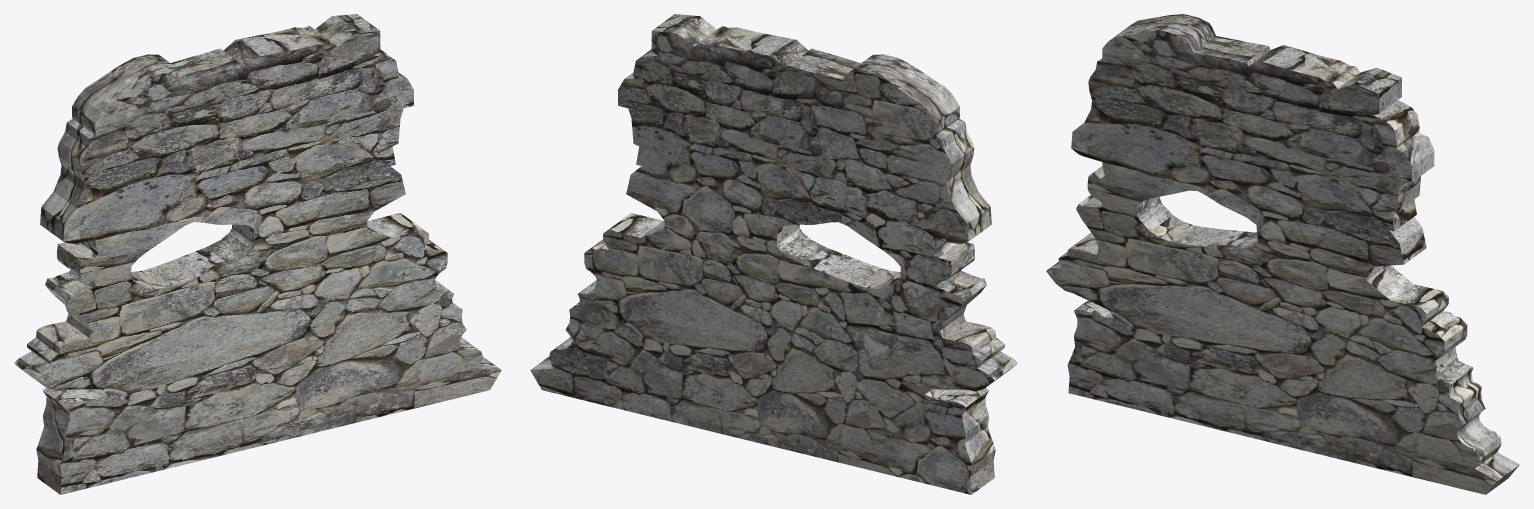
The model's file is ruinwall5.FBX.
3 views of the same model, side by side, from view 1: azimuth 30°, elevation 25°; view 2: azimuth 150°, elevation 25°; view 3: azimuth 330°, elevation 25° (orthographic). The views are drawn at different scales.
Parts seen in each view (by area): view 1: Mesh5; view 2: Mesh5; view 3: Mesh5.
Boxes of the visible parts, box(x1,y1,x2,y2) form: Mesh5: box(14, 14, 501, 494); Mesh5: box(530, 14, 1017, 494); Mesh5: box(1046, 14, 1519, 494).
Bounding box in the file's own units: 23.49 × 19.17 × 2.04.
